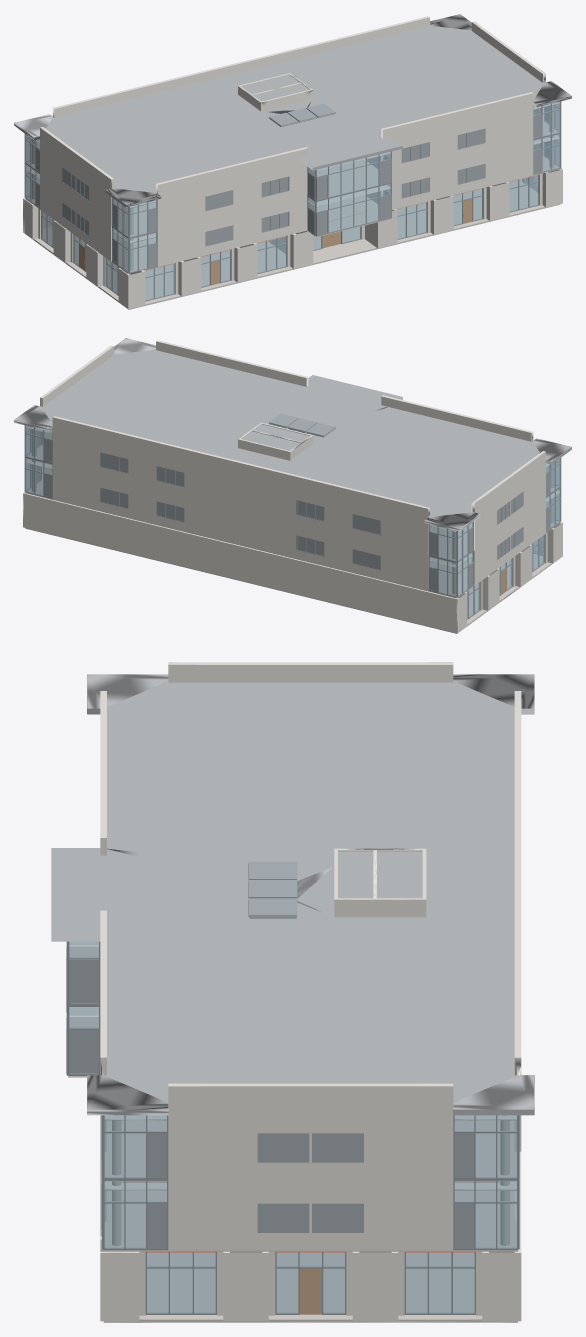
3 renders of one model, top to bottom at view 1: azimuth 30°, elevation 25°; view 2: azimuth 150°, elevation 25°; view 3: azimuth 270°, elevation 25°, orthographic. The views are drawn at different scales.
Visible parts, largest first — view 1: walls, roofs, glass, floors, windows, mullions, ceilings, doors, columns; view 2: walls, roofs, windows, glass, floors, mullions, columns, ceilings; view 3: roofs, walls, glass, floors, windows, mullions, columns, ceilings, doors.
Boxes of the visible parts, <box> form: walls: <box>23,16,562,309</box>; roofs: <box>14,14,571,207</box>; glass: <box>25,101,559,300</box>; floors: <box>25,121,560,309</box>; windows: <box>35,103,548,268</box>; mullions: <box>24,101,561,301</box>; ceilings: <box>26,102,559,243</box>; doors: <box>79,198,472,285</box>; columns: <box>32,105,553,270</box>; walls: <box>23,340,562,633</box>; roofs: <box>14,338,571,531</box>; windows: <box>37,413,550,592</box>; glass: <box>25,425,560,618</box>; floors: <box>25,445,559,633</box>; mullions: <box>24,425,561,619</box>; columns: <box>32,429,553,594</box>; ceilings: <box>26,426,559,567</box>; roofs: <box>51,674,534,1115</box>; walls: <box>100,662,521,1321</box>; glass: <box>69,941,516,1313</box>; floors: <box>68,947,517,1322</box>; windows: <box>66,861,474,1248</box>; mullions: <box>66,941,519,1314</box>; columns: <box>112,1120,509,1245</box>; ceilings: <box>69,942,516,1190</box>; doors: <box>299,1268,321,1314</box>.
Bounding box in the file's own units: 48.5 × 12.34 × 22.75.
